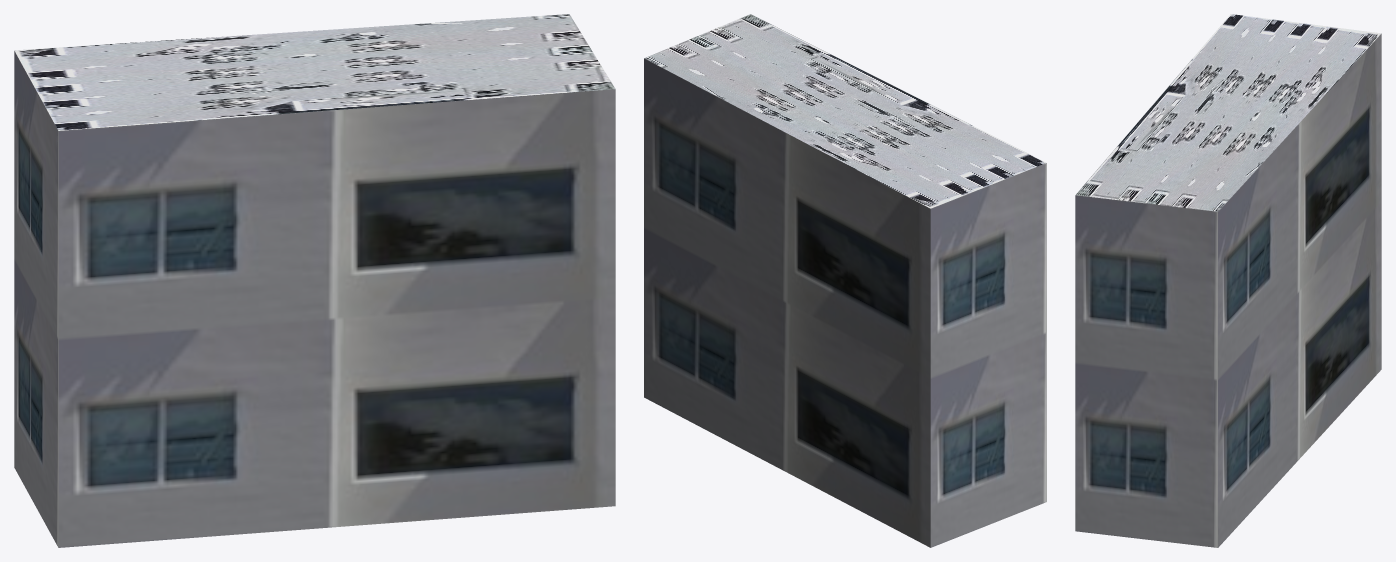
The model's file is ResTex__432.fbx.
3 views of the same model, side by side, from view 1: azimuth 30°, elevation 25°; view 2: azimuth 150°, elevation 25°; view 3: azimuth 270°, elevation 25° (orthographic). The views are drawn at different scales.
Visible parts, largest first — view 1: CityEngineMaterial_10_m, CityEngineMaterial_8_m; view 2: CityEngineMaterial_10_m, CityEngineMaterial_8_m; view 3: CityEngineMaterial_10_m, CityEngineMaterial_8_m.
Part boxes in pixels (x1,y1,x2,y2): CityEngineMaterial_10_m: (14, 51, 615, 547); CityEngineMaterial_8_m: (14, 14, 615, 130); CityEngineMaterial_10_m: (644, 58, 1046, 547); CityEngineMaterial_8_m: (644, 14, 1046, 208); CityEngineMaterial_10_m: (1075, 34, 1381, 547); CityEngineMaterial_8_m: (1075, 14, 1381, 211).
Bounding box in the file's own units: 7.57 × 6 × 4.96.
2 materials, 2 textured.
